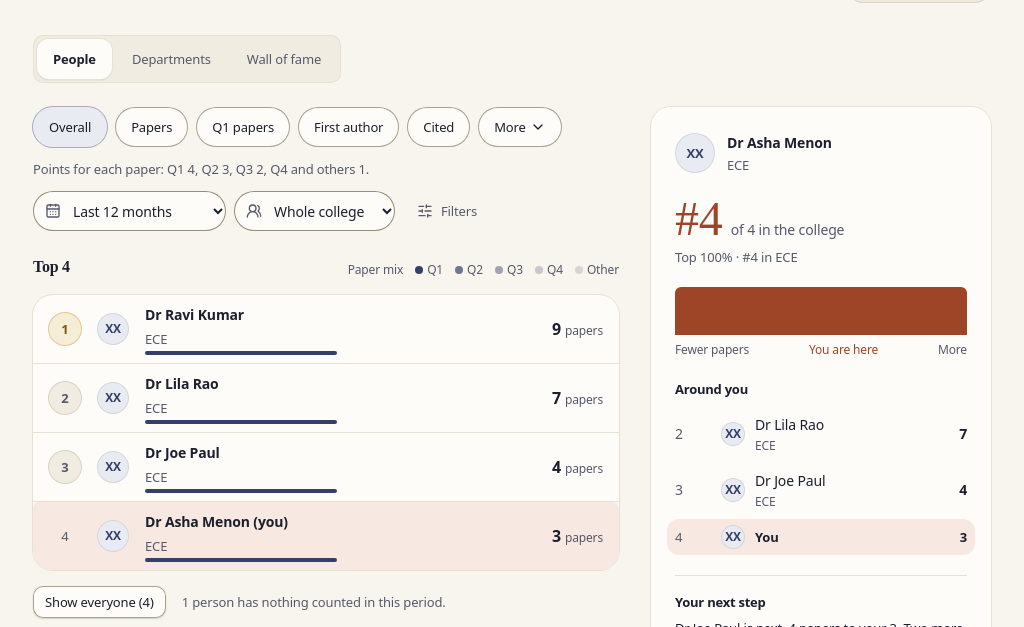
Test case: Leaderboard › lists the top 10 with a paper mix bar, hides the unranked and keeps them a click away
Expected: the number of pictures named "Paper mix: 1 Q1" is 4, [145,351,337,355]; [145,420,337,424]; [145,489,337,493]; [145,558,337,562]
Expected: the text "Dr Mina Das" is not shown
Click the button "Show everyone (4)". click: (99, 602)
box: [33,586,166,618]
(page scrolled)
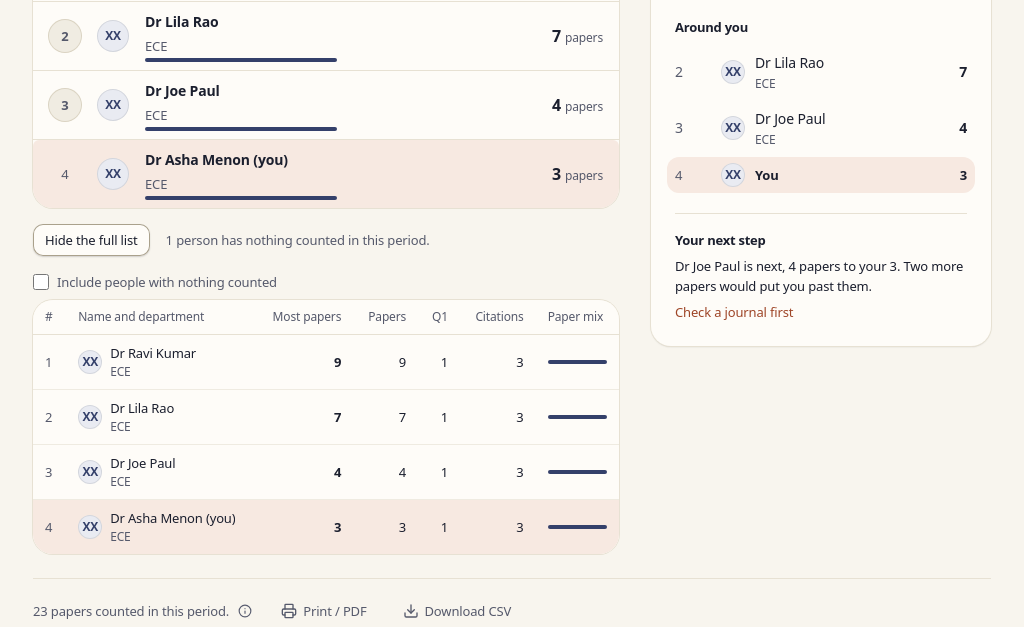
Click the checkbox labelled "Include people with nothing counted". click: (41, 282)
box: [33,274,49,290]
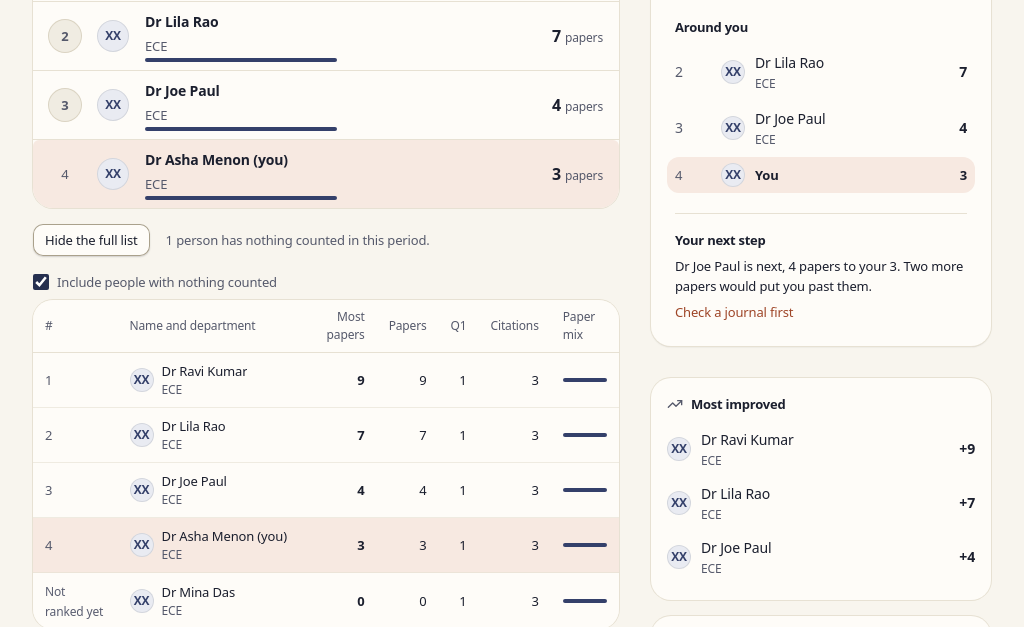
Expected: the element titled "Nothing counted for them in this period yet." is shown, [45,583,103,620]
